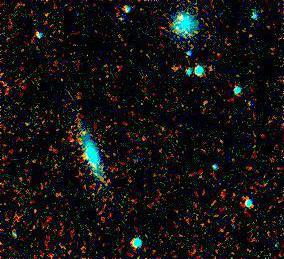star: (24, 202, 54, 232)
